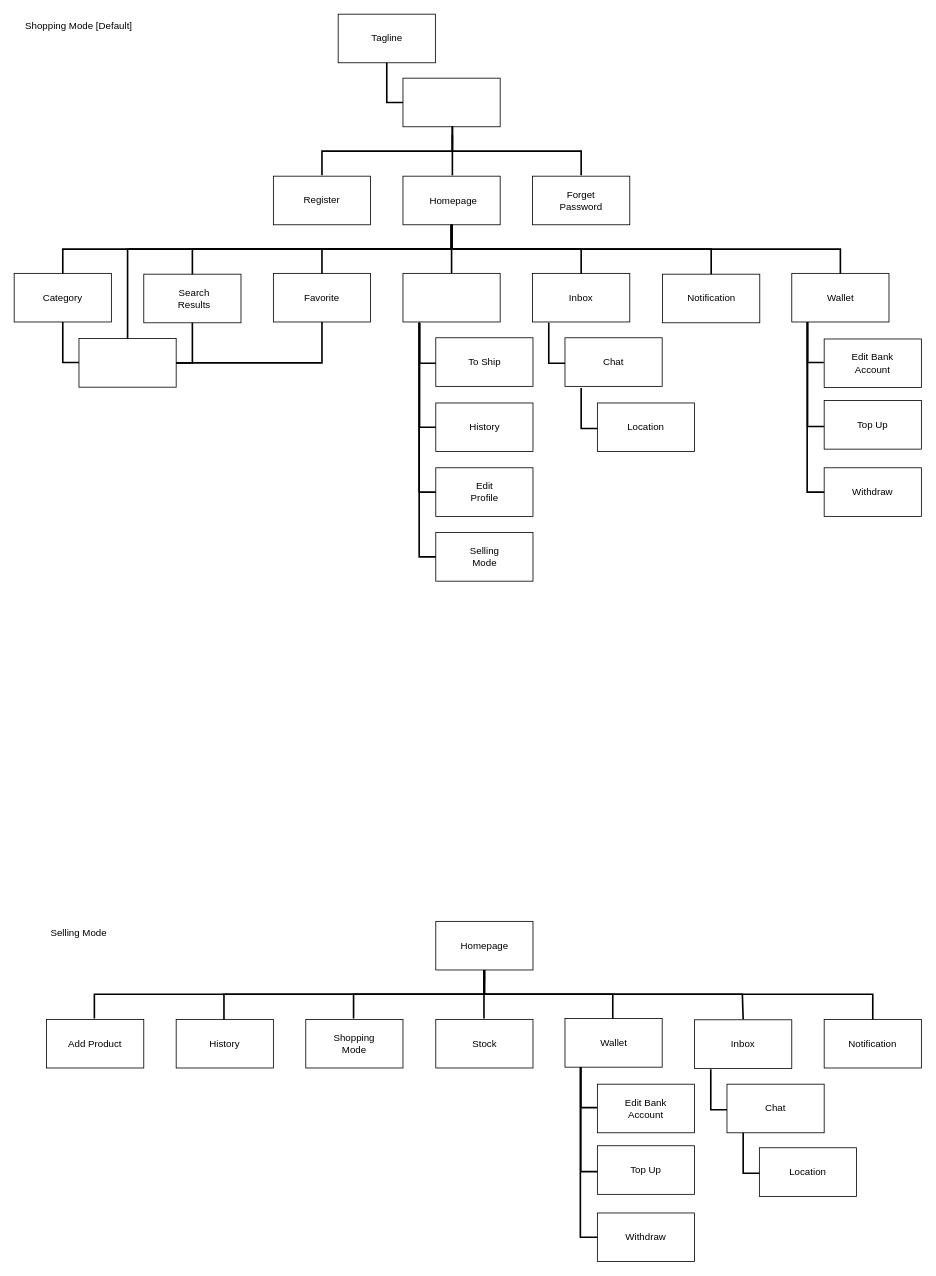
This 936x1276 diagram has some shape labels left out. The centre of each missing label's shape, as x and y in pixels:
"Login" belongs at (451,102).
"Product" belongs at (127,362).
"Profile" belongs at (451,297).
